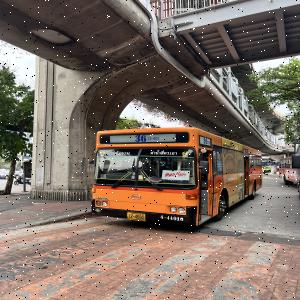BMTA-bus: (91, 127, 263, 229)
Bus Line Number: (129, 133, 163, 143), (202, 136, 213, 146)
Bus Side Number: (157, 214, 187, 222)
Destination Sign: (162, 169, 189, 181)
